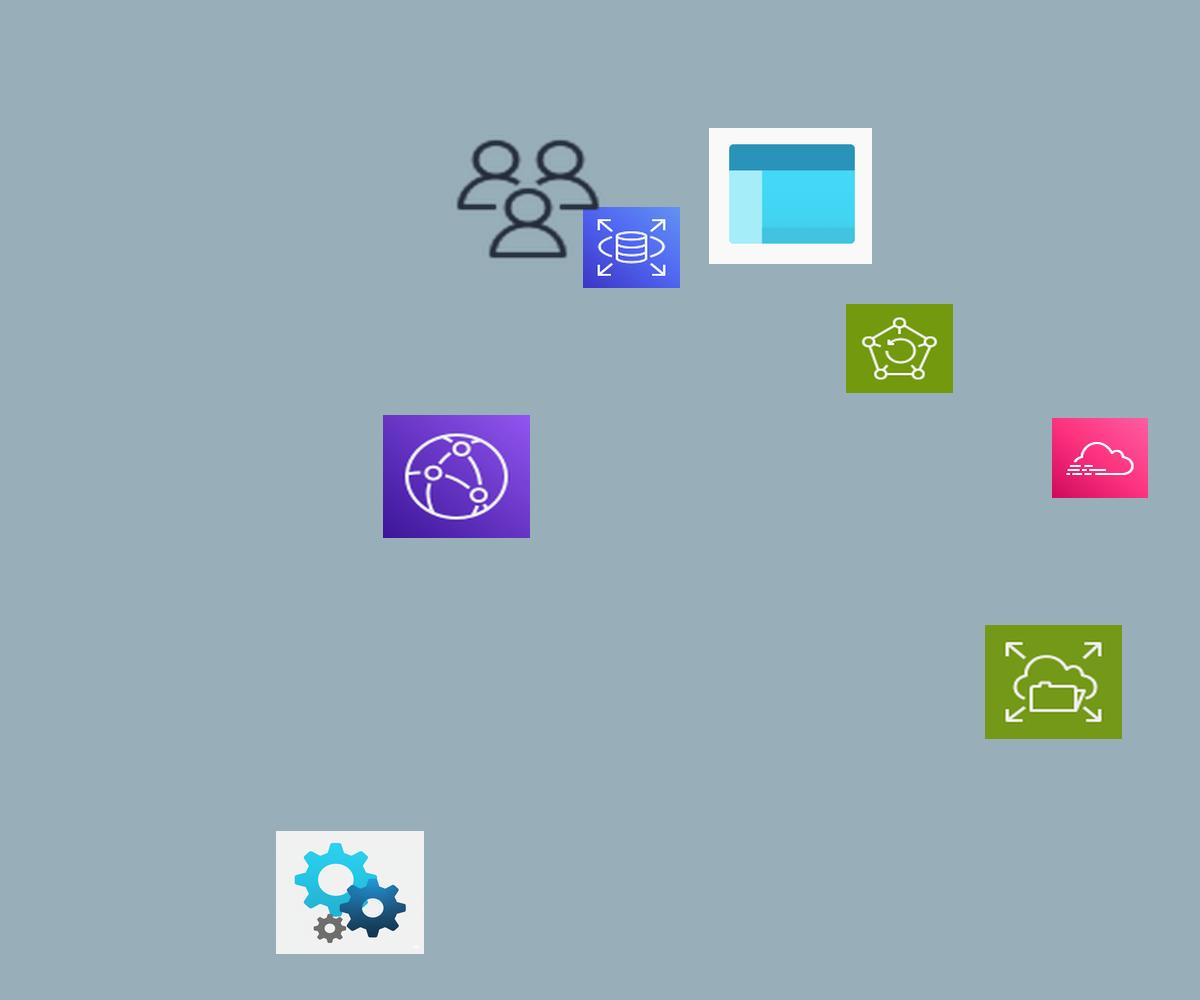AWS-Backup: (846, 304, 953, 393)
AWS-CloudFront: (383, 415, 530, 538)
AWS-CloudTrail: (1052, 418, 1148, 498)
AWS-EFS: (985, 625, 1122, 739)
AWS-RDS: (583, 207, 680, 288)
AWS-Res_Users: (451, 135, 605, 263)
Azure_api: (276, 831, 424, 954)
Azure_management-portal: (709, 128, 872, 264)
